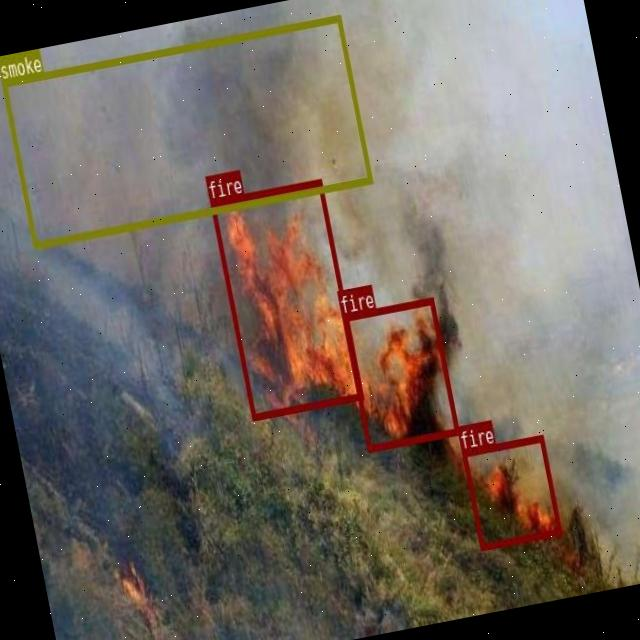fire: (210, 180, 362, 420), (341, 296, 459, 451), (462, 434, 562, 550)
smoke: (1, 14, 372, 248)
